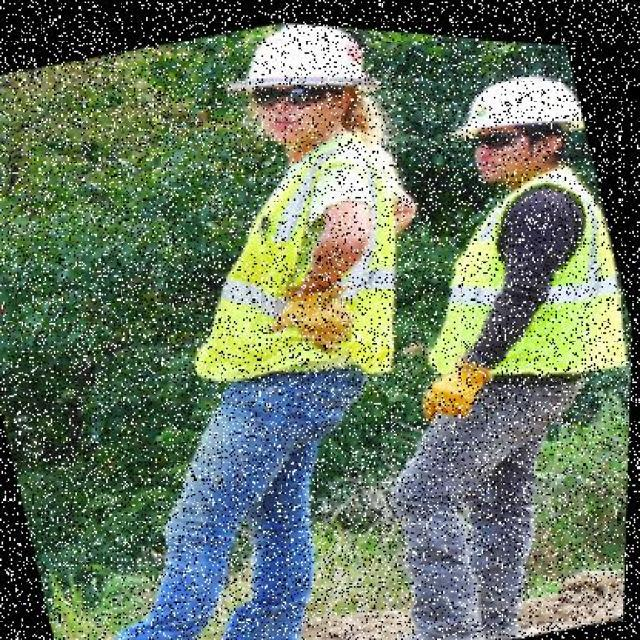helmet: (209, 14, 393, 126), (442, 43, 591, 168)
vest: (186, 106, 454, 416), (416, 140, 636, 417)
